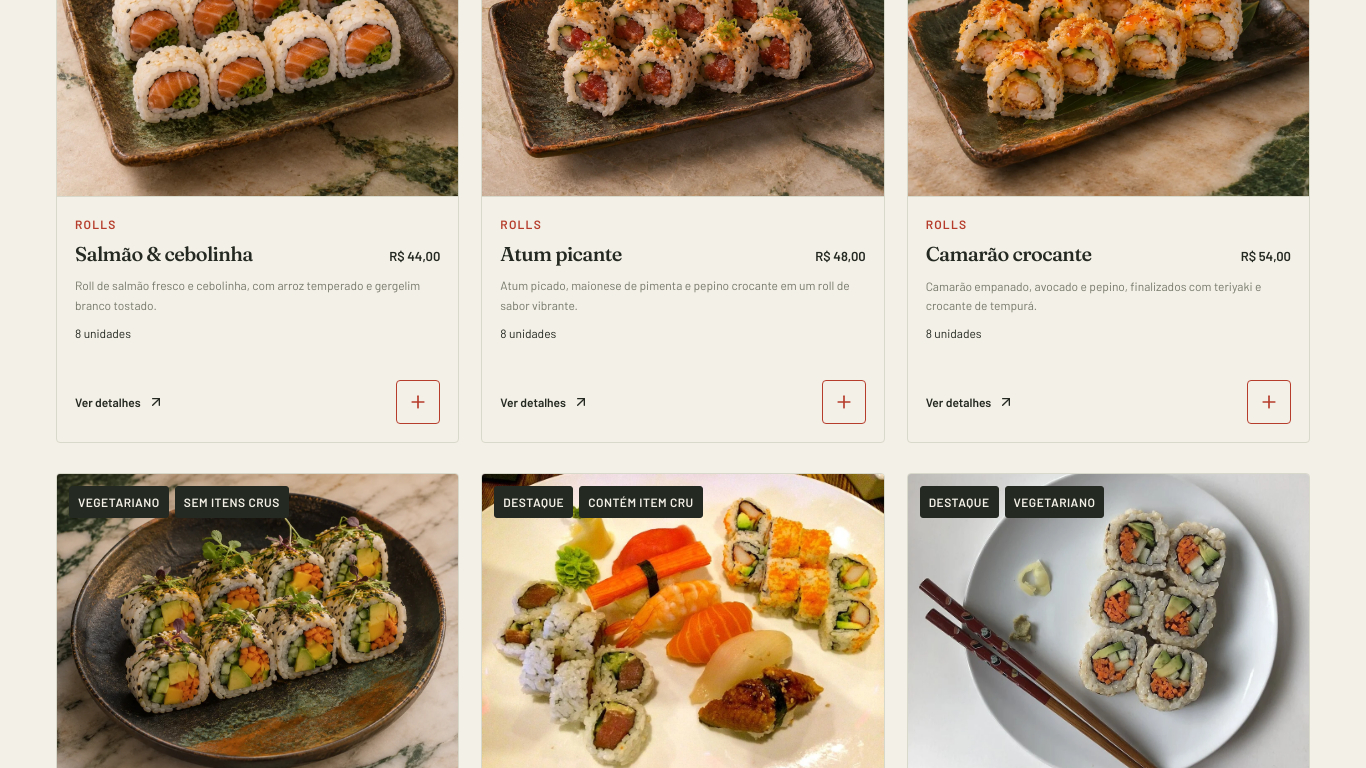
Scenario: DigitalMenu › fecha o diálogo pelo botão, preserva nome acessível e devolve o foco
This screenshot has width=1366, height=768.
(page scrolled)
Click the button with aria-label "Ver detalhes de Atum picante" at (545,402), box x1=500 y1=380 x2=589 y2=424
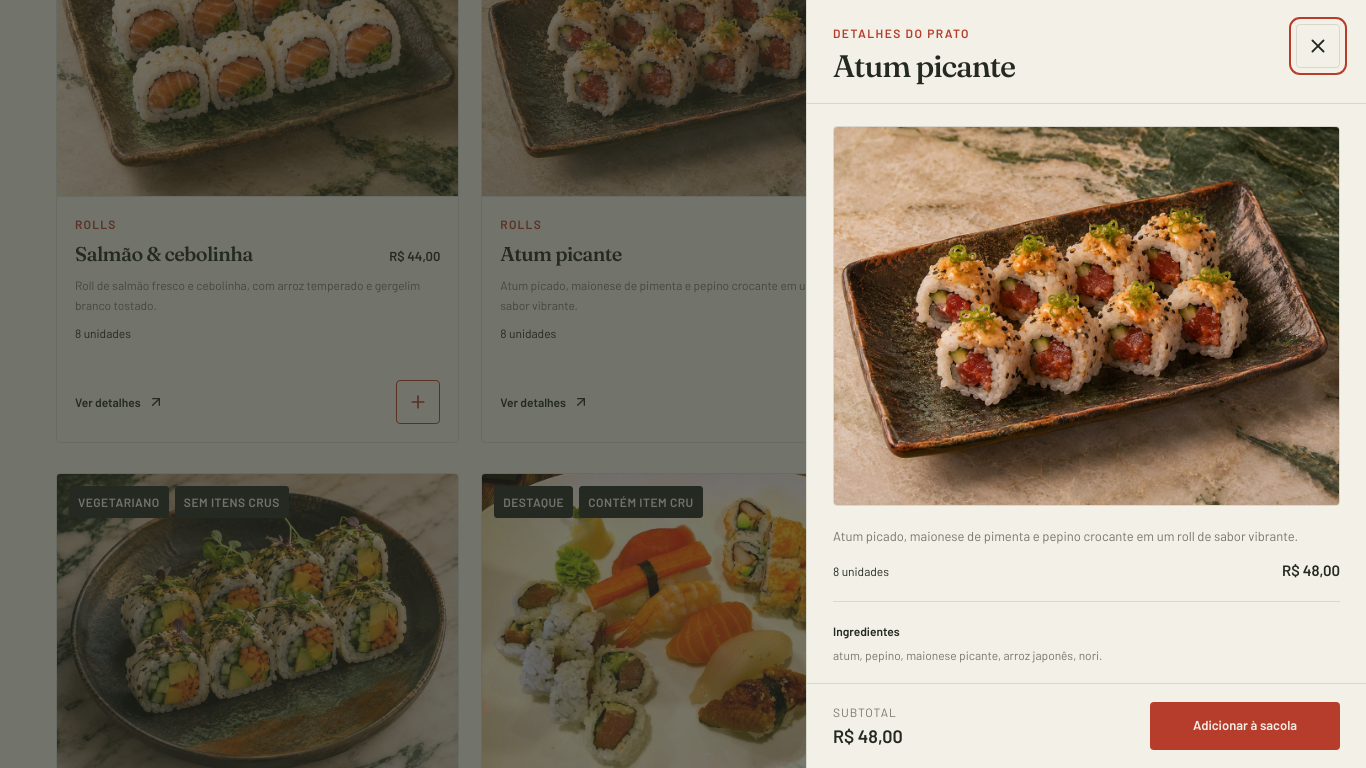
Click the button named "Fechar detalhes" at (1318,46), box x1=1296 y1=24 x2=1340 y2=68
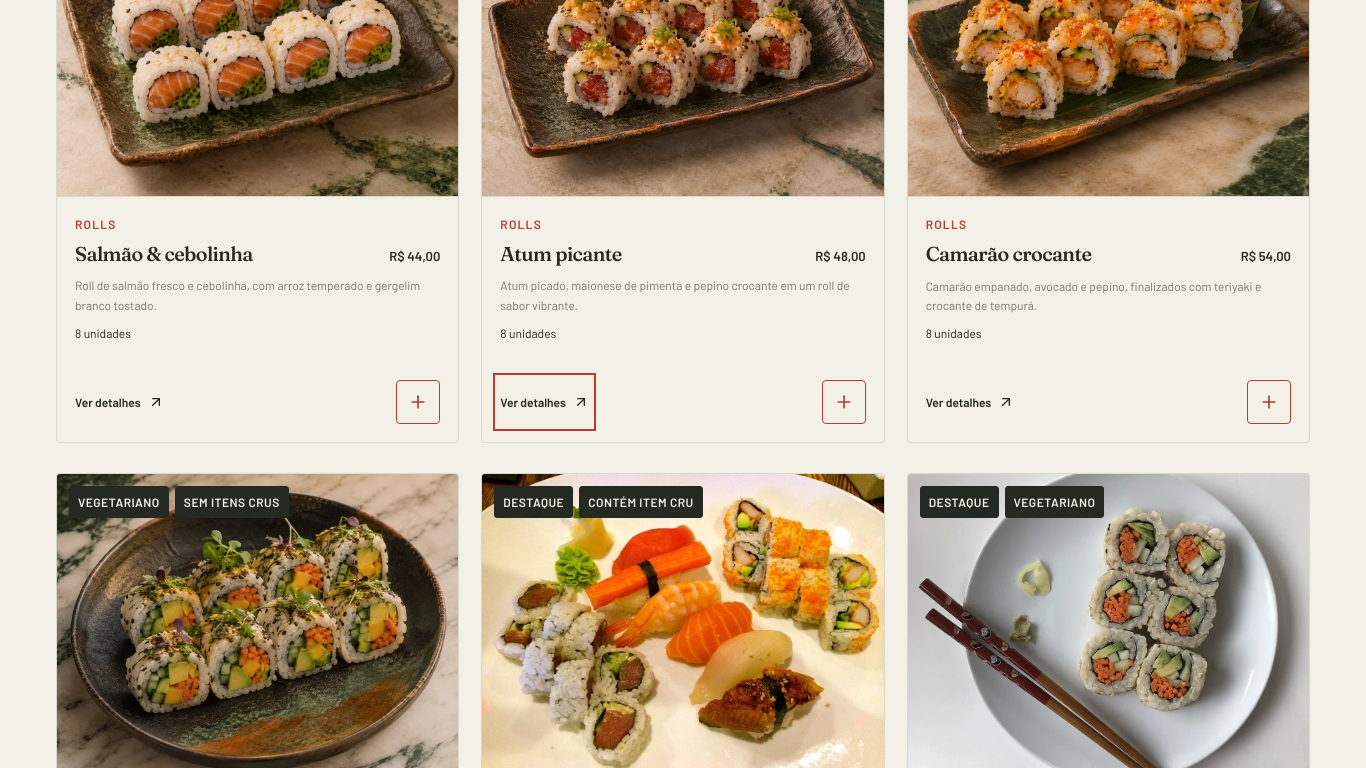
Result: the dialog is gone
